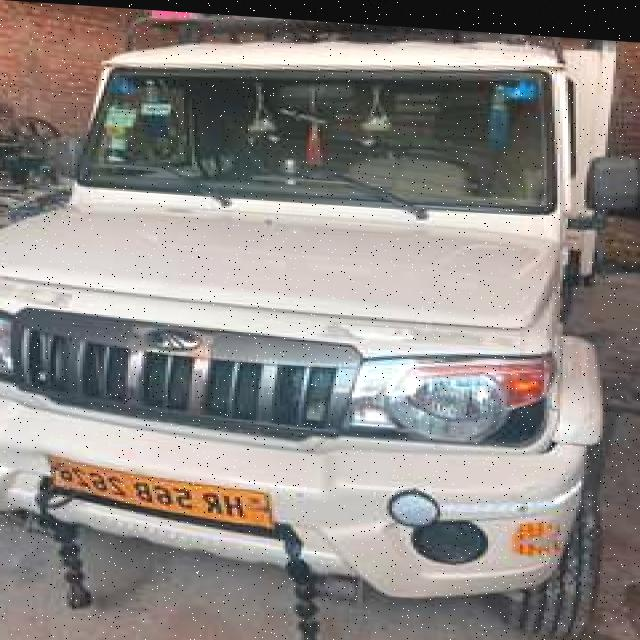plate: (46, 451, 276, 525)
